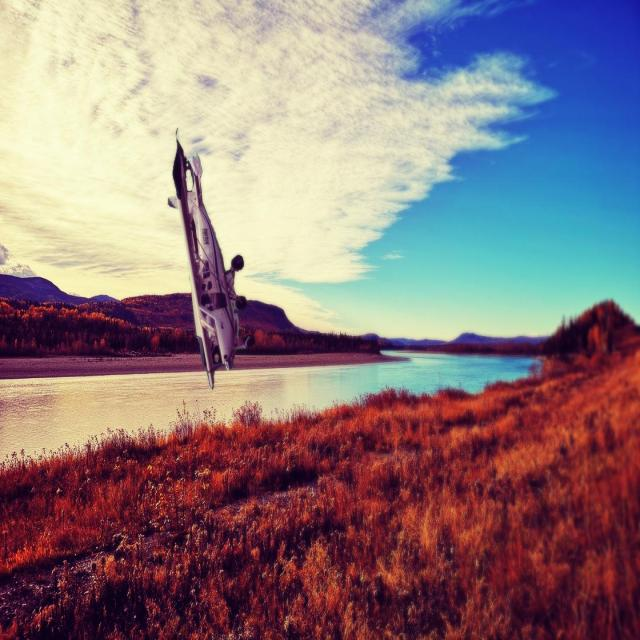airplane: (166, 126, 255, 389)
